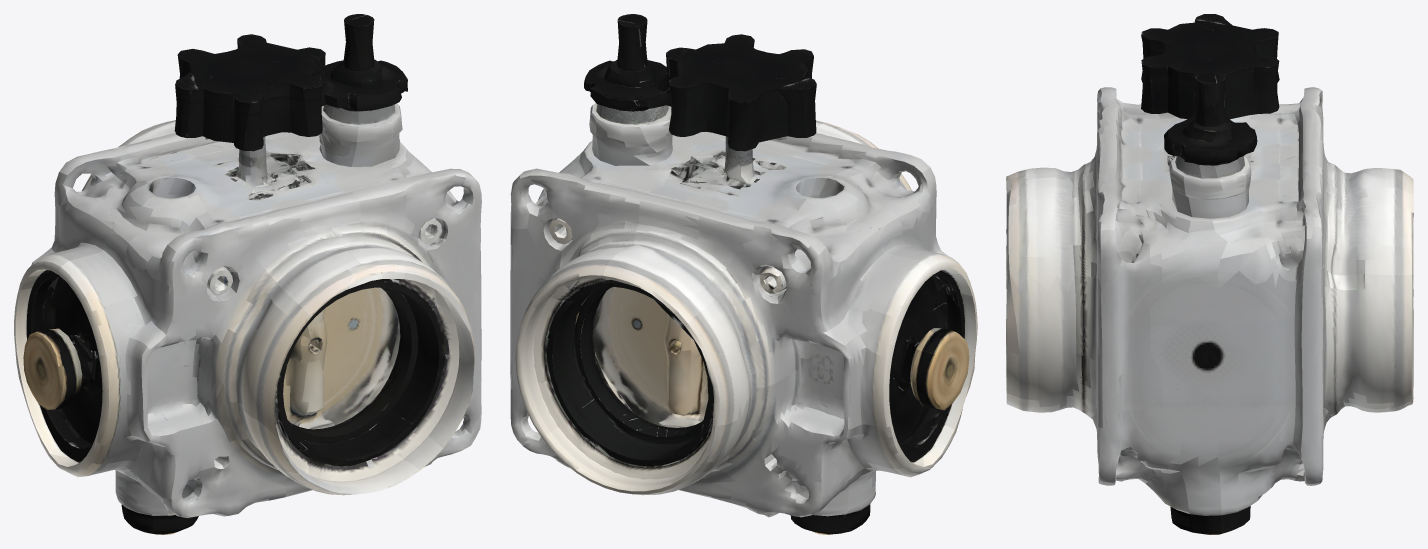
The model's file is injector-tbi.glb.
3 renders of one model, left to right at view 1: azimuth 30°, elevation 25°; view 2: azimuth 150°, elevation 25°; view 3: azimuth 270°, elevation 25°, orthographic. The views are drawn at different scales.
Bounding box in the file's own units: 1.68 × 1.9 × 1.6.
Materials: 1 (1 with a texture image).
